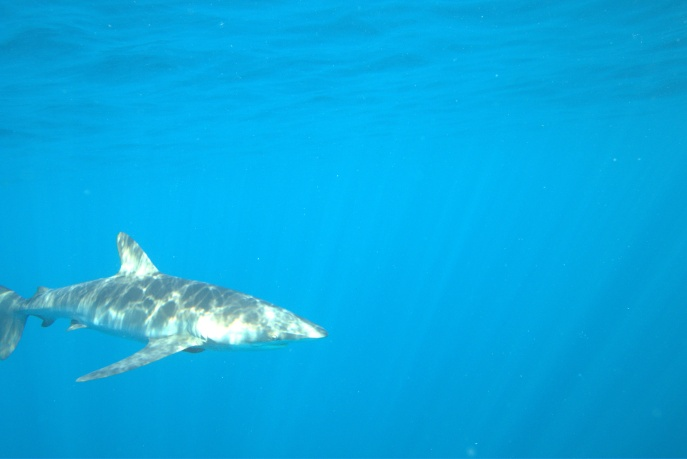Sedoso: (1, 223, 336, 396)
